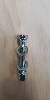FinishedAssembly: (15, 31, 31, 85)
